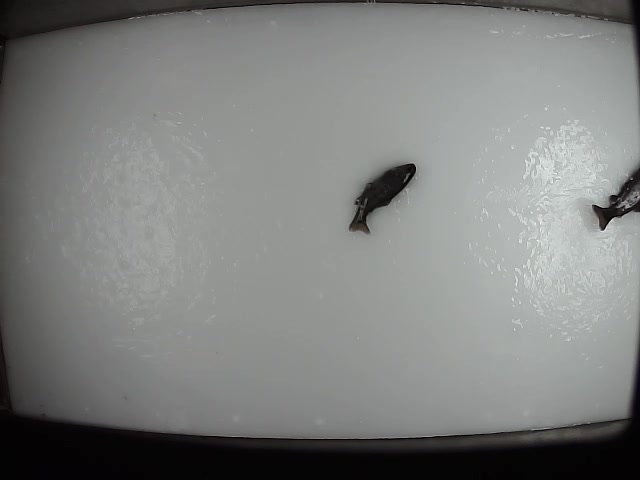fish: (346, 161, 419, 236)
